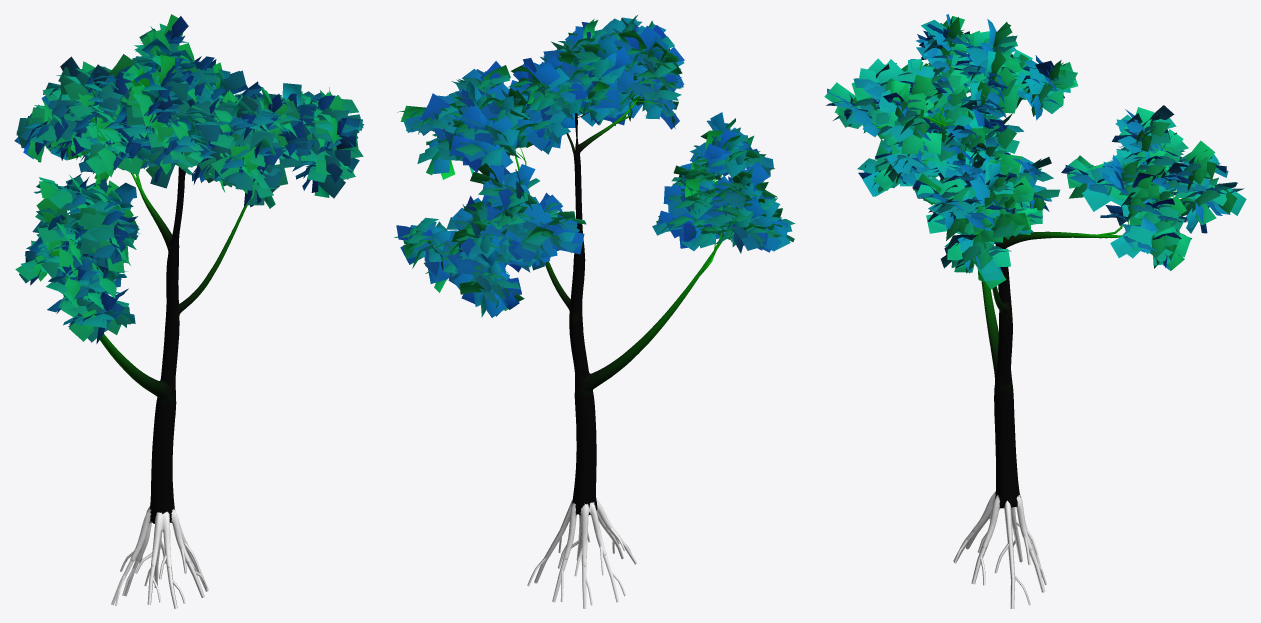
3 renders of one model, left to right at view 1: azimuth 30°, elevation 25°; view 2: azimuth 150°, elevation 25°; view 3: azimuth 270°, elevation 25°, orthographic. The views are drawn at different scales.
Visible parts, largest first — view 1: Foliage, Trunk, Branches, RootTips, Roots; view 2: Foliage, Trunk, Branches, RootTips, Roots, Twigs; view 3: Foliage, Trunk, RootTips, Branches, Roots.
Part boxes in pixels (x1,y1,x2,y2): Foliage: (14,14,364,343); Trunk: (149,167,184,523); Branches: (100,175,247,399); RootTips: (111,510,208,608); Roots: (130,506,190,567); Foliage: (394,15,795,317); Trunk: (569,135,597,515); Branches: (516,104,720,391); RootTips: (527,500,637,608); Roots: (563,499,619,566); Twigs: (484,78,735,275); Foliage: (824,14,1246,289); Trunk: (994,237,1020,508); RootTips: (953,500,1046,608); Branches: (928,118,1120,382); Roots: (972,491,1032,550).
Bounding box in the file's own units: 10490 × 10834 × 15874.
